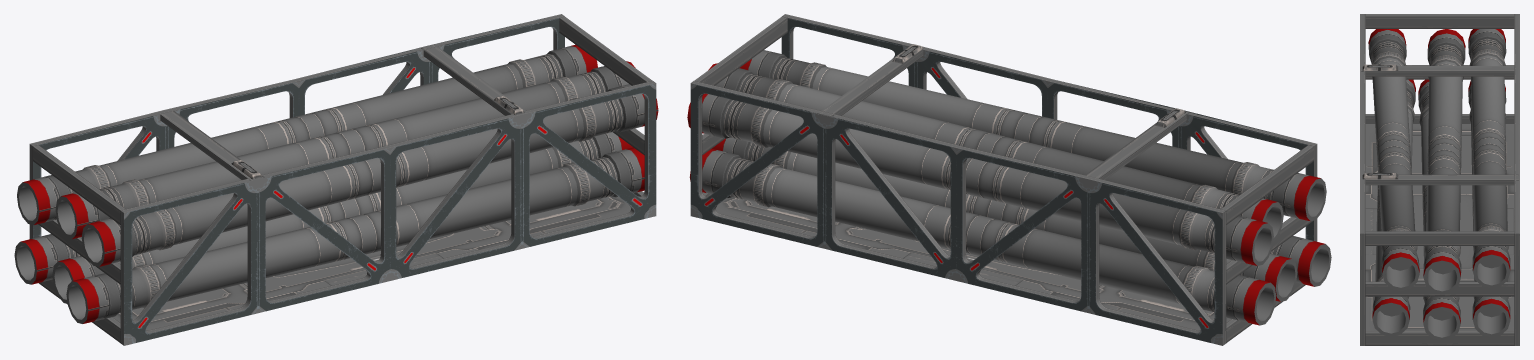
The model's file is Prop_PipeHolder.gltf.
3 views of the same model, side by side, from view 1: azimuth 30°, elevation 25°; view 2: azimuth 150°, elevation 25°; view 3: azimuth 270°, elevation 25° (orthographic). The views are drawn at different scales.
Visible parts, largest first — view 1: Prop_PipeHolder; view 2: Prop_PipeHolder; view 3: Prop_PipeHolder.
Boxes of the visible parts, x1,y1,x2,y2 form: Prop_PipeHolder: [14, 14, 658, 345]; Prop_PipeHolder: [687, 14, 1331, 345]; Prop_PipeHolder: [1360, 14, 1519, 345].
Size of the model in its own units: 4.12 by 0.9274 by 1.16.
3 materials, 3 textured.
